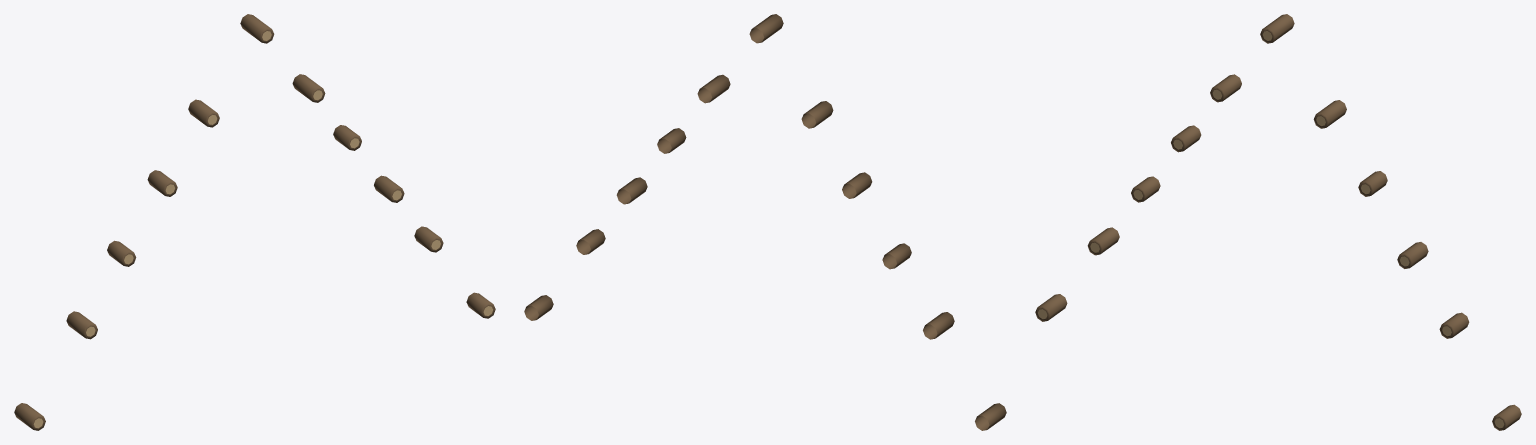
File: rpgpp_ag_roof_support_01_6x5x3_end_01b.fbx
3 views of the same model, side by side, from view 1: azimuth 30°, elevation 25°; view 2: azimuth 150°, elevation 25°; view 3: azimuth 330°, elevation 25° (orthographic).
Visible parts, largest first — view 1: rpgpp_ag_roof_support_01_6x5x3_end_01b; view 2: rpgpp_ag_roof_support_01_6x5x3_end_01b; view 3: rpgpp_ag_roof_support_01_6x5x3_end_01b.
Part boxes in pixels (box(x1,y1,x2,y2)): rpgpp_ag_roof_support_01_6x5x3_end_01b: box(14, 14, 495, 430); rpgpp_ag_roof_support_01_6x5x3_end_01b: box(524, 14, 1006, 430); rpgpp_ag_roof_support_01_6x5x3_end_01b: box(1035, 14, 1521, 430).
Bounding box in the file's own units: 8.06 × 5.76 × 0.578.
